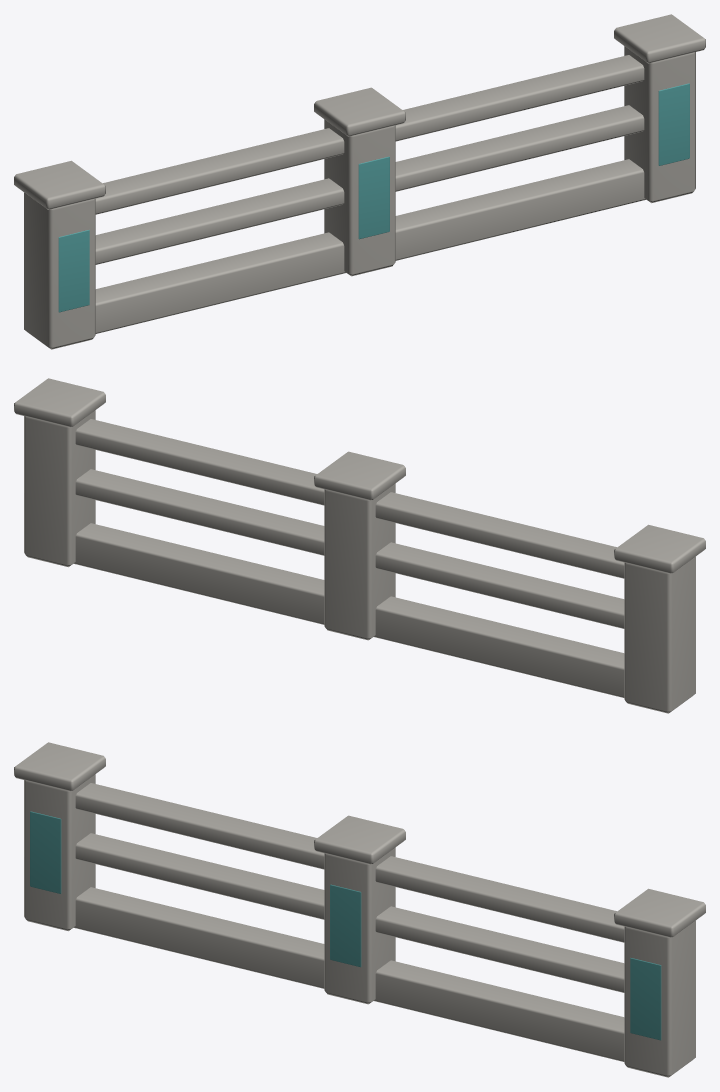
Rendered from CanalRailFL.fbx.
3 renders of one model, top to bottom at view 1: azimuth 30°, elevation 25°; view 2: azimuth 150°, elevation 25°; view 3: azimuth 330°, elevation 25°, orthographic.
Parts seen in each view (by area): view 1: CanalRailFL; view 2: CanalRailFL; view 3: CanalRailFL.
Boxes of the visible parts, left/top/right/bottom form: CanalRailFL: left=14, top=14, right=705, bottom=349; CanalRailFL: left=14, top=378, right=705, bottom=713; CanalRailFL: left=14, top=742, right=705, bottom=1077.
Bounding box in the file's own units: 5.5 × 1.25 × 0.5.
